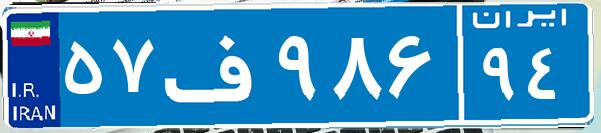4: (525, 38, 570, 115)
5: (57, 26, 110, 107)
6: (385, 28, 445, 110)
7: (110, 28, 158, 105)
8: (330, 28, 385, 110)
9: (273, 28, 330, 110), (475, 38, 525, 113)
ف: (158, 15, 273, 115)
